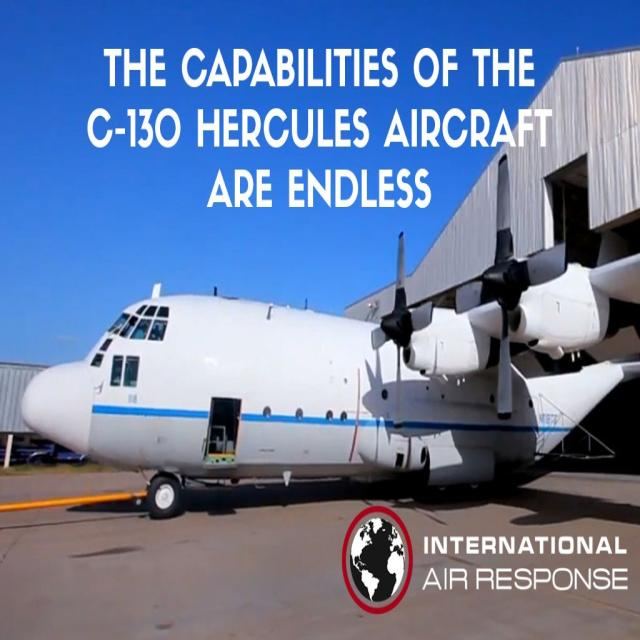C130: (0, 149, 640, 523)
